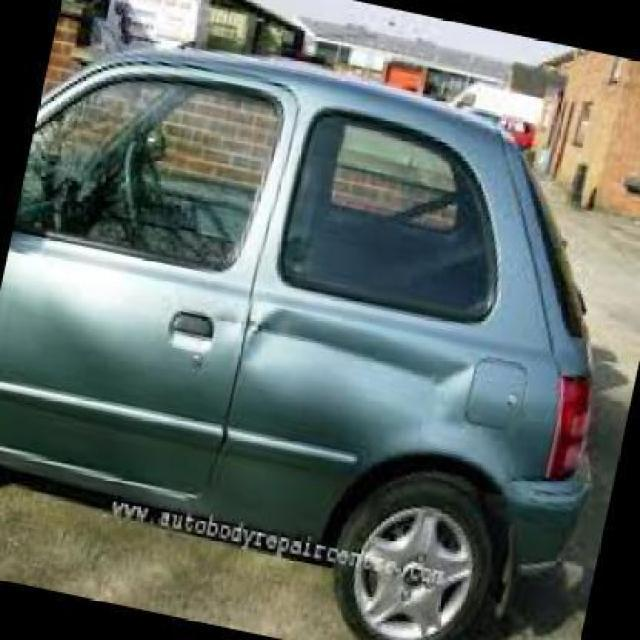dent: (249, 311, 462, 426)
